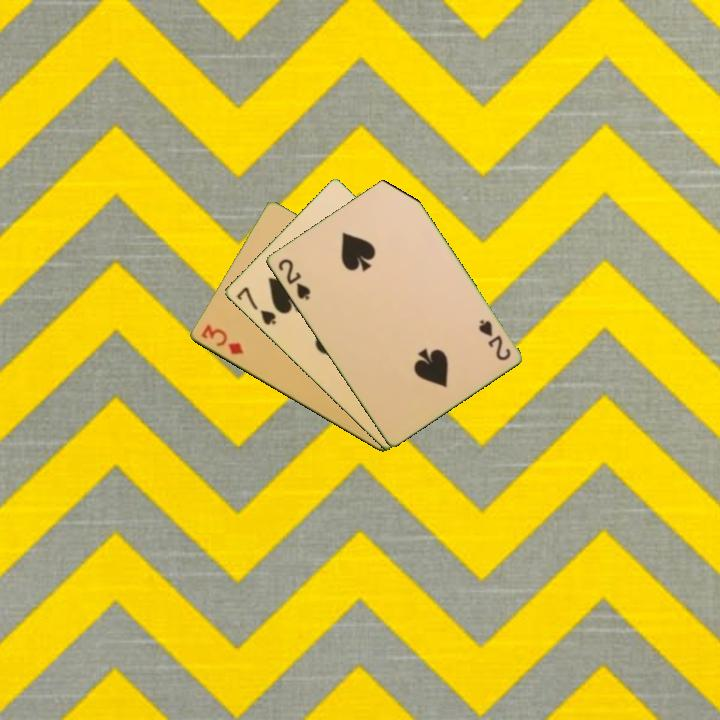2s: (274, 255, 313, 303), (474, 316, 513, 363)
3d: (197, 321, 246, 358)
7s: (232, 283, 279, 328)
